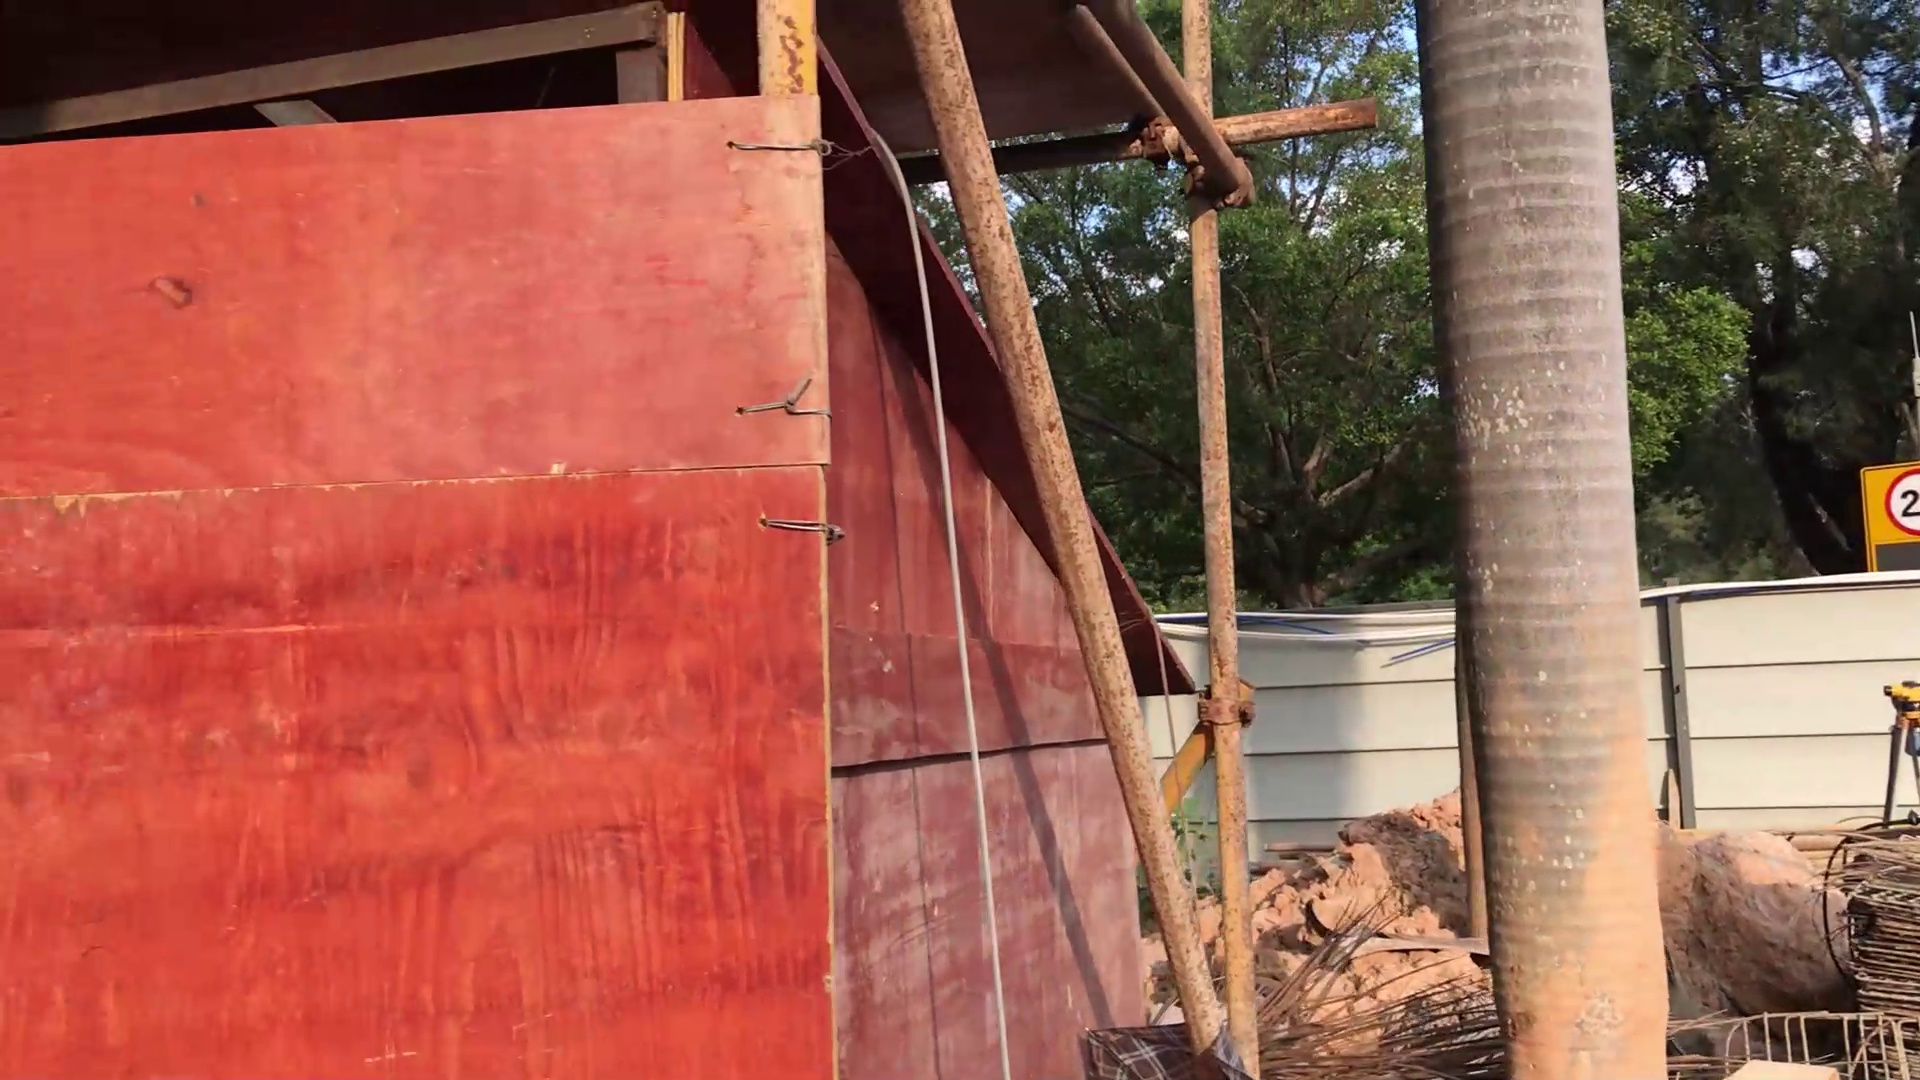slogan: (1879, 462, 1920, 537)
